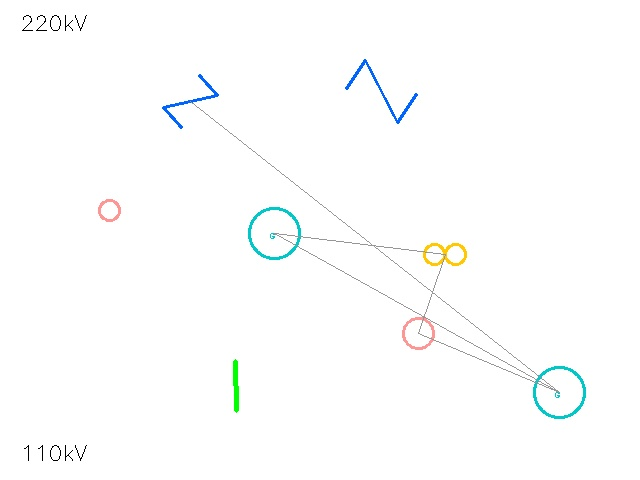busbar: (205, 355, 267, 417)
circuit_breaker: (347, 57, 415, 125), (163, 74, 217, 128)
fuse: (88, 189, 130, 231)
generator: (249, 208, 299, 258), (534, 367, 584, 417)
transformer_2w: (418, 227, 472, 281)
voltage_transformer: (387, 302, 449, 364)
